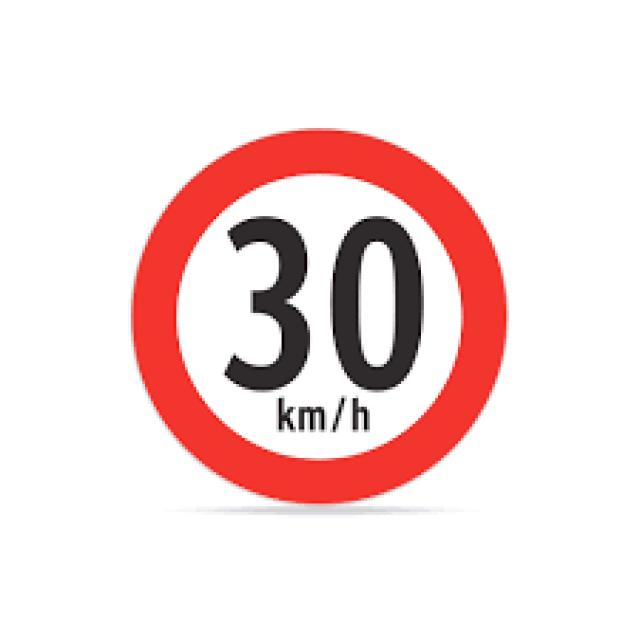Speed limit 30: (126, 124, 513, 508)
